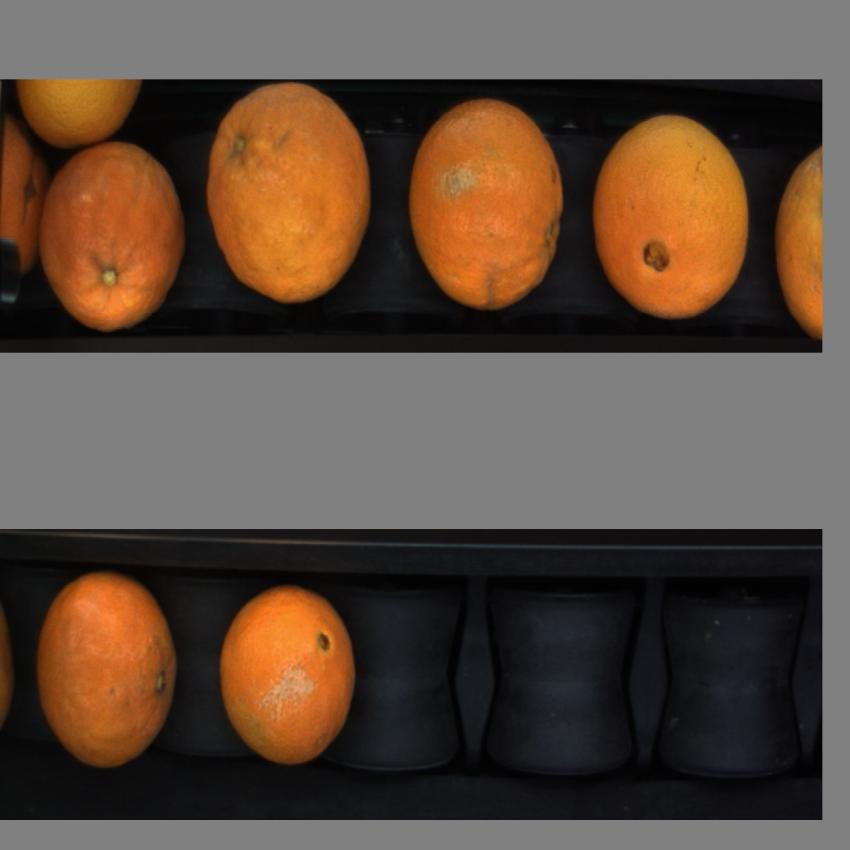Buen estado: (205, 83, 376, 304), (594, 112, 755, 325), (407, 93, 564, 308), (39, 141, 187, 329), (36, 577, 179, 771), (772, 139, 824, 348), (17, 77, 143, 147), (0, 116, 45, 302)
Mal estado: (217, 588, 361, 766)
